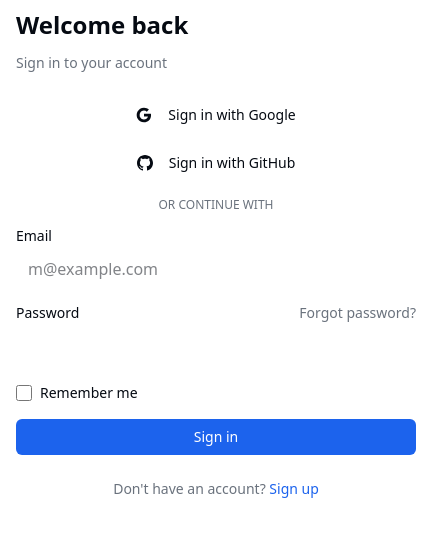
Scenario: LoginForm › validation › should show error for invalid email format
In the field labelled "Email": (216, 269) [16,251,416,287], type "invalid-email"
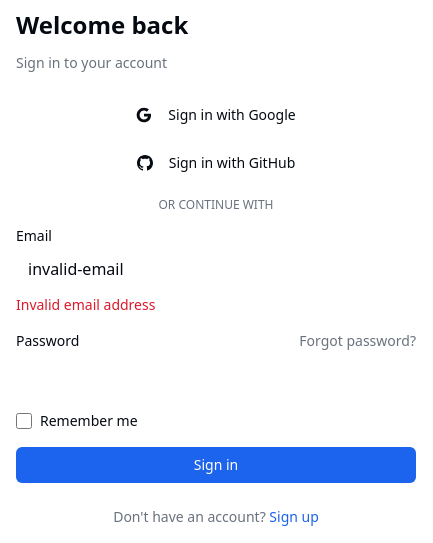
Expected: the text "Invalid email address" is shown, [16,295,155,314]
